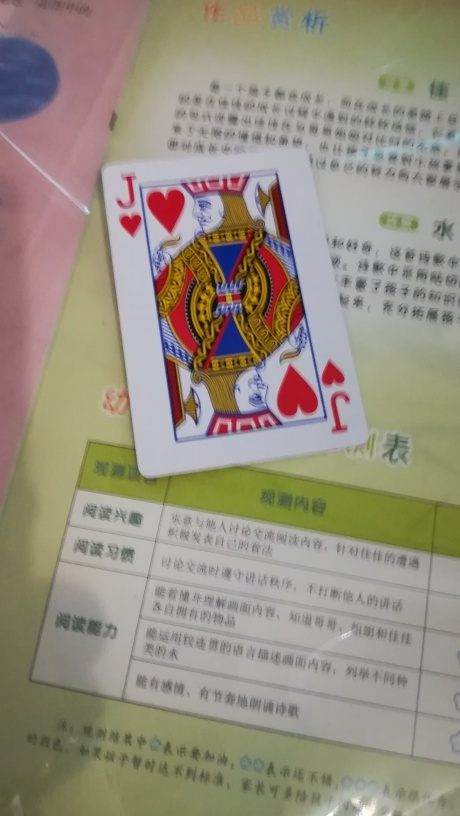hx j: (95, 147, 373, 479)
